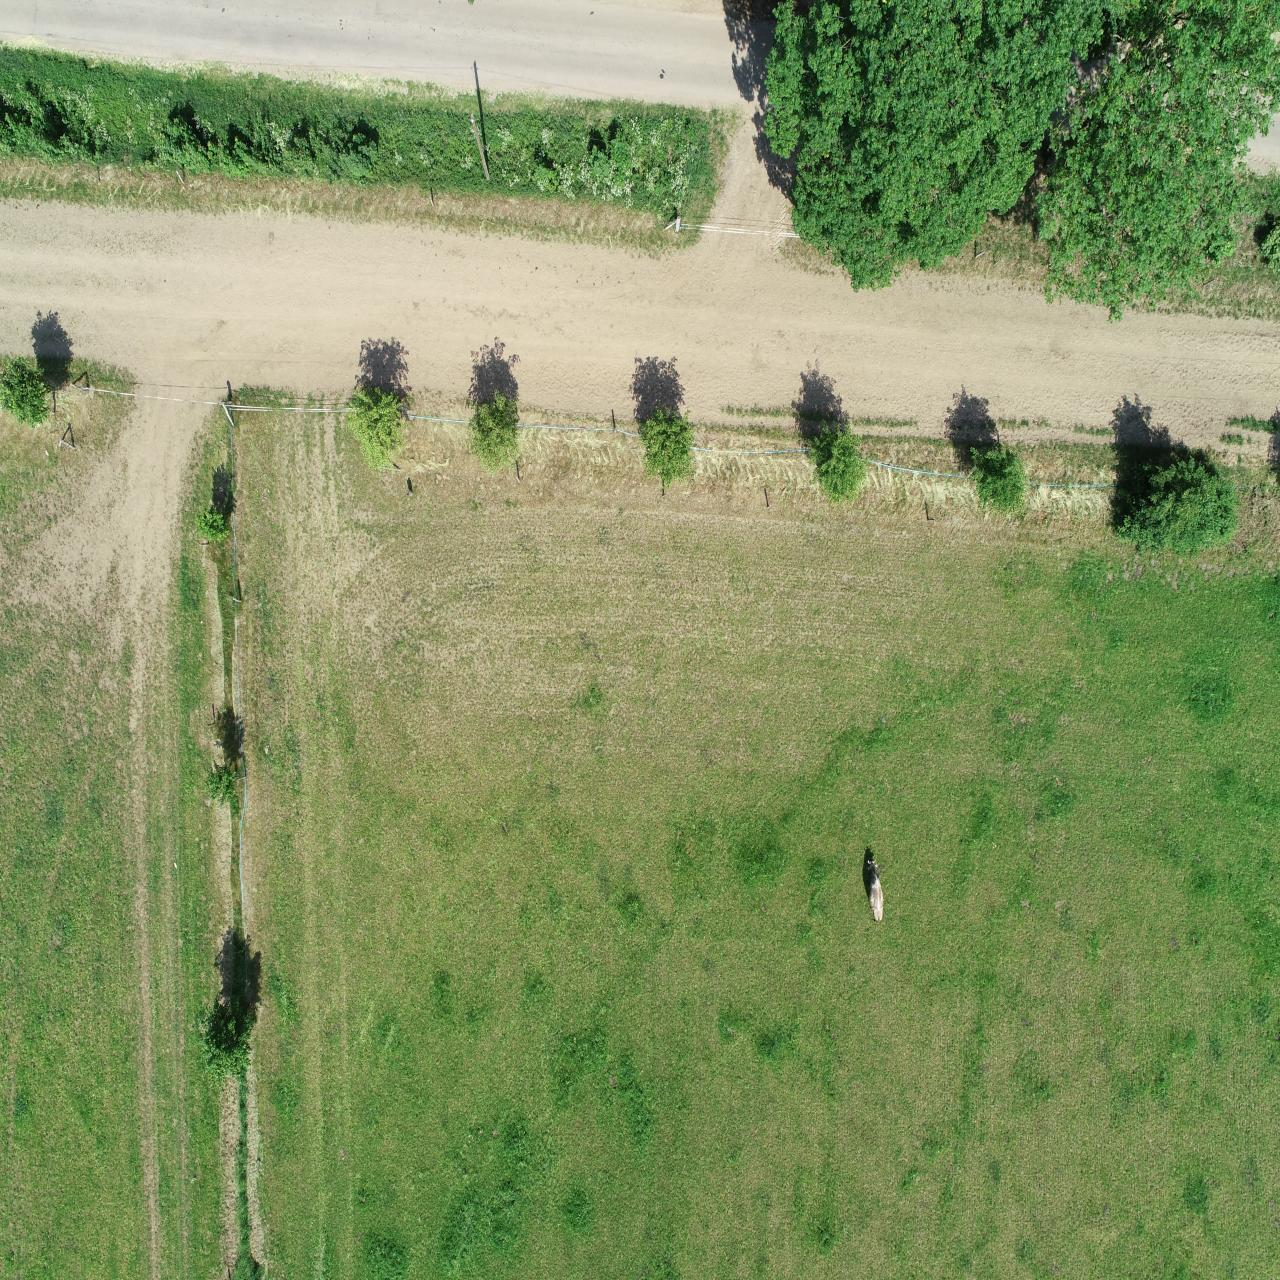cow: (865, 858, 885, 924)
